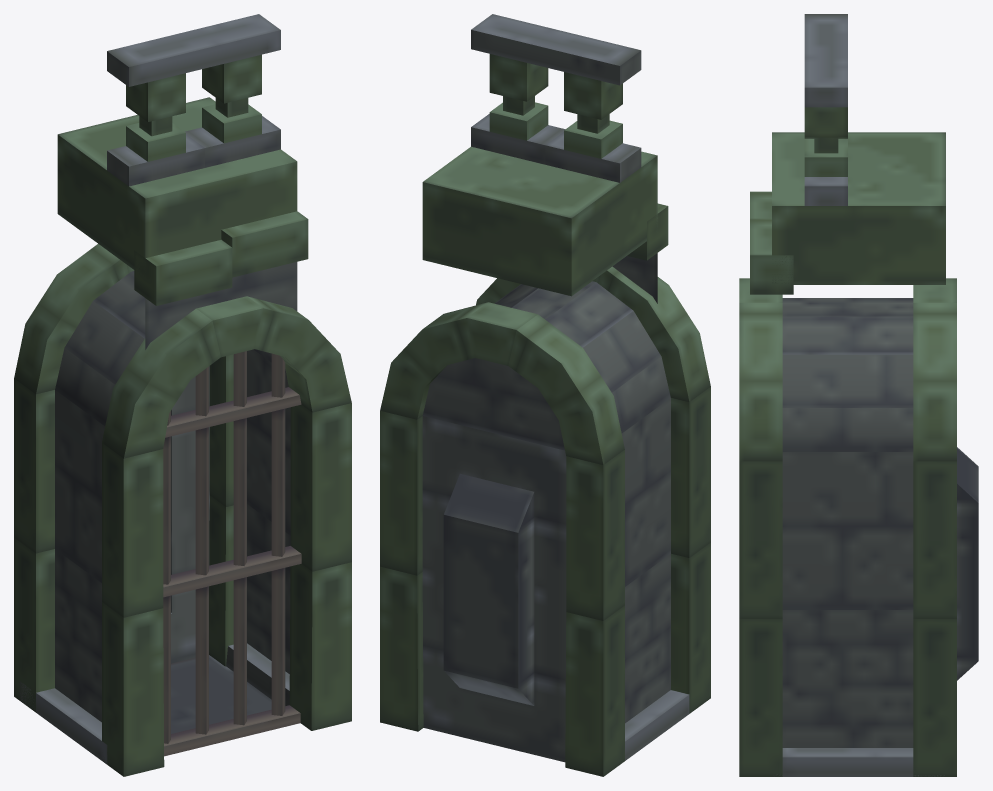
The model's file is wall_bay_4_green.fbx.
3 views of the same model, side by side, from view 1: azimuth 30°, elevation 25°; view 2: azimuth 150°, elevation 25°; view 3: azimuth 270°, elevation 25° (orthographic). The views are drawn at different scales.
Visible parts, largest first — view 1: wall_bay_4_green; view 2: wall_bay_4_green; view 3: wall_bay_4_green.
Part boxes in pixels (x1,y1,x2,y2): wall_bay_4_green: [14, 14, 351, 776]; wall_bay_4_green: [380, 14, 710, 776]; wall_bay_4_green: [739, 14, 978, 776].
Bounding box in the file's own units: 24 × 68 × 22.
